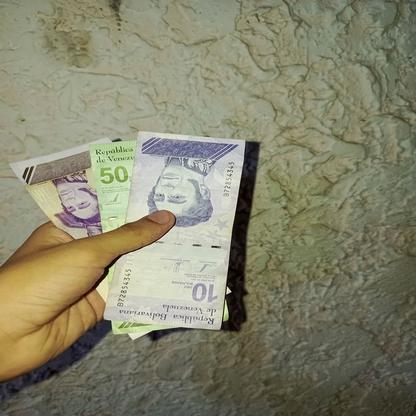fifty-front-vef: (87, 140, 136, 286)
ten-front-vef: (102, 130, 246, 330)
two_hundred-front-vef: (7, 136, 112, 306)
